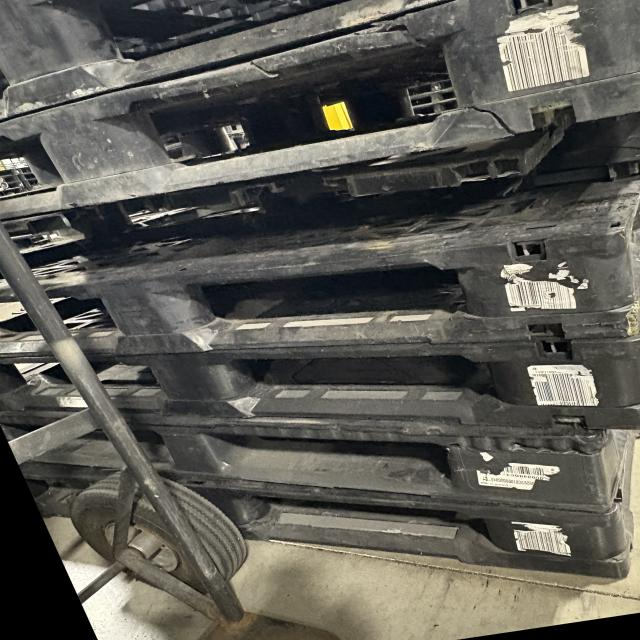igps: (0, 0, 640, 234), (0, 157, 640, 372), (4, 456, 640, 581), (0, 325, 640, 436), (0, 410, 640, 518)
